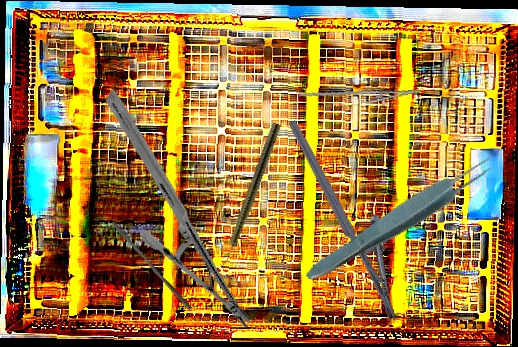Handpiece: (218, 121, 282, 271)
Needle Holder: (40, 87, 317, 332), (286, 105, 426, 324), (298, 74, 423, 121)
Pusher: (108, 220, 196, 311)
Tissue Forceps: (300, 148, 504, 290)
